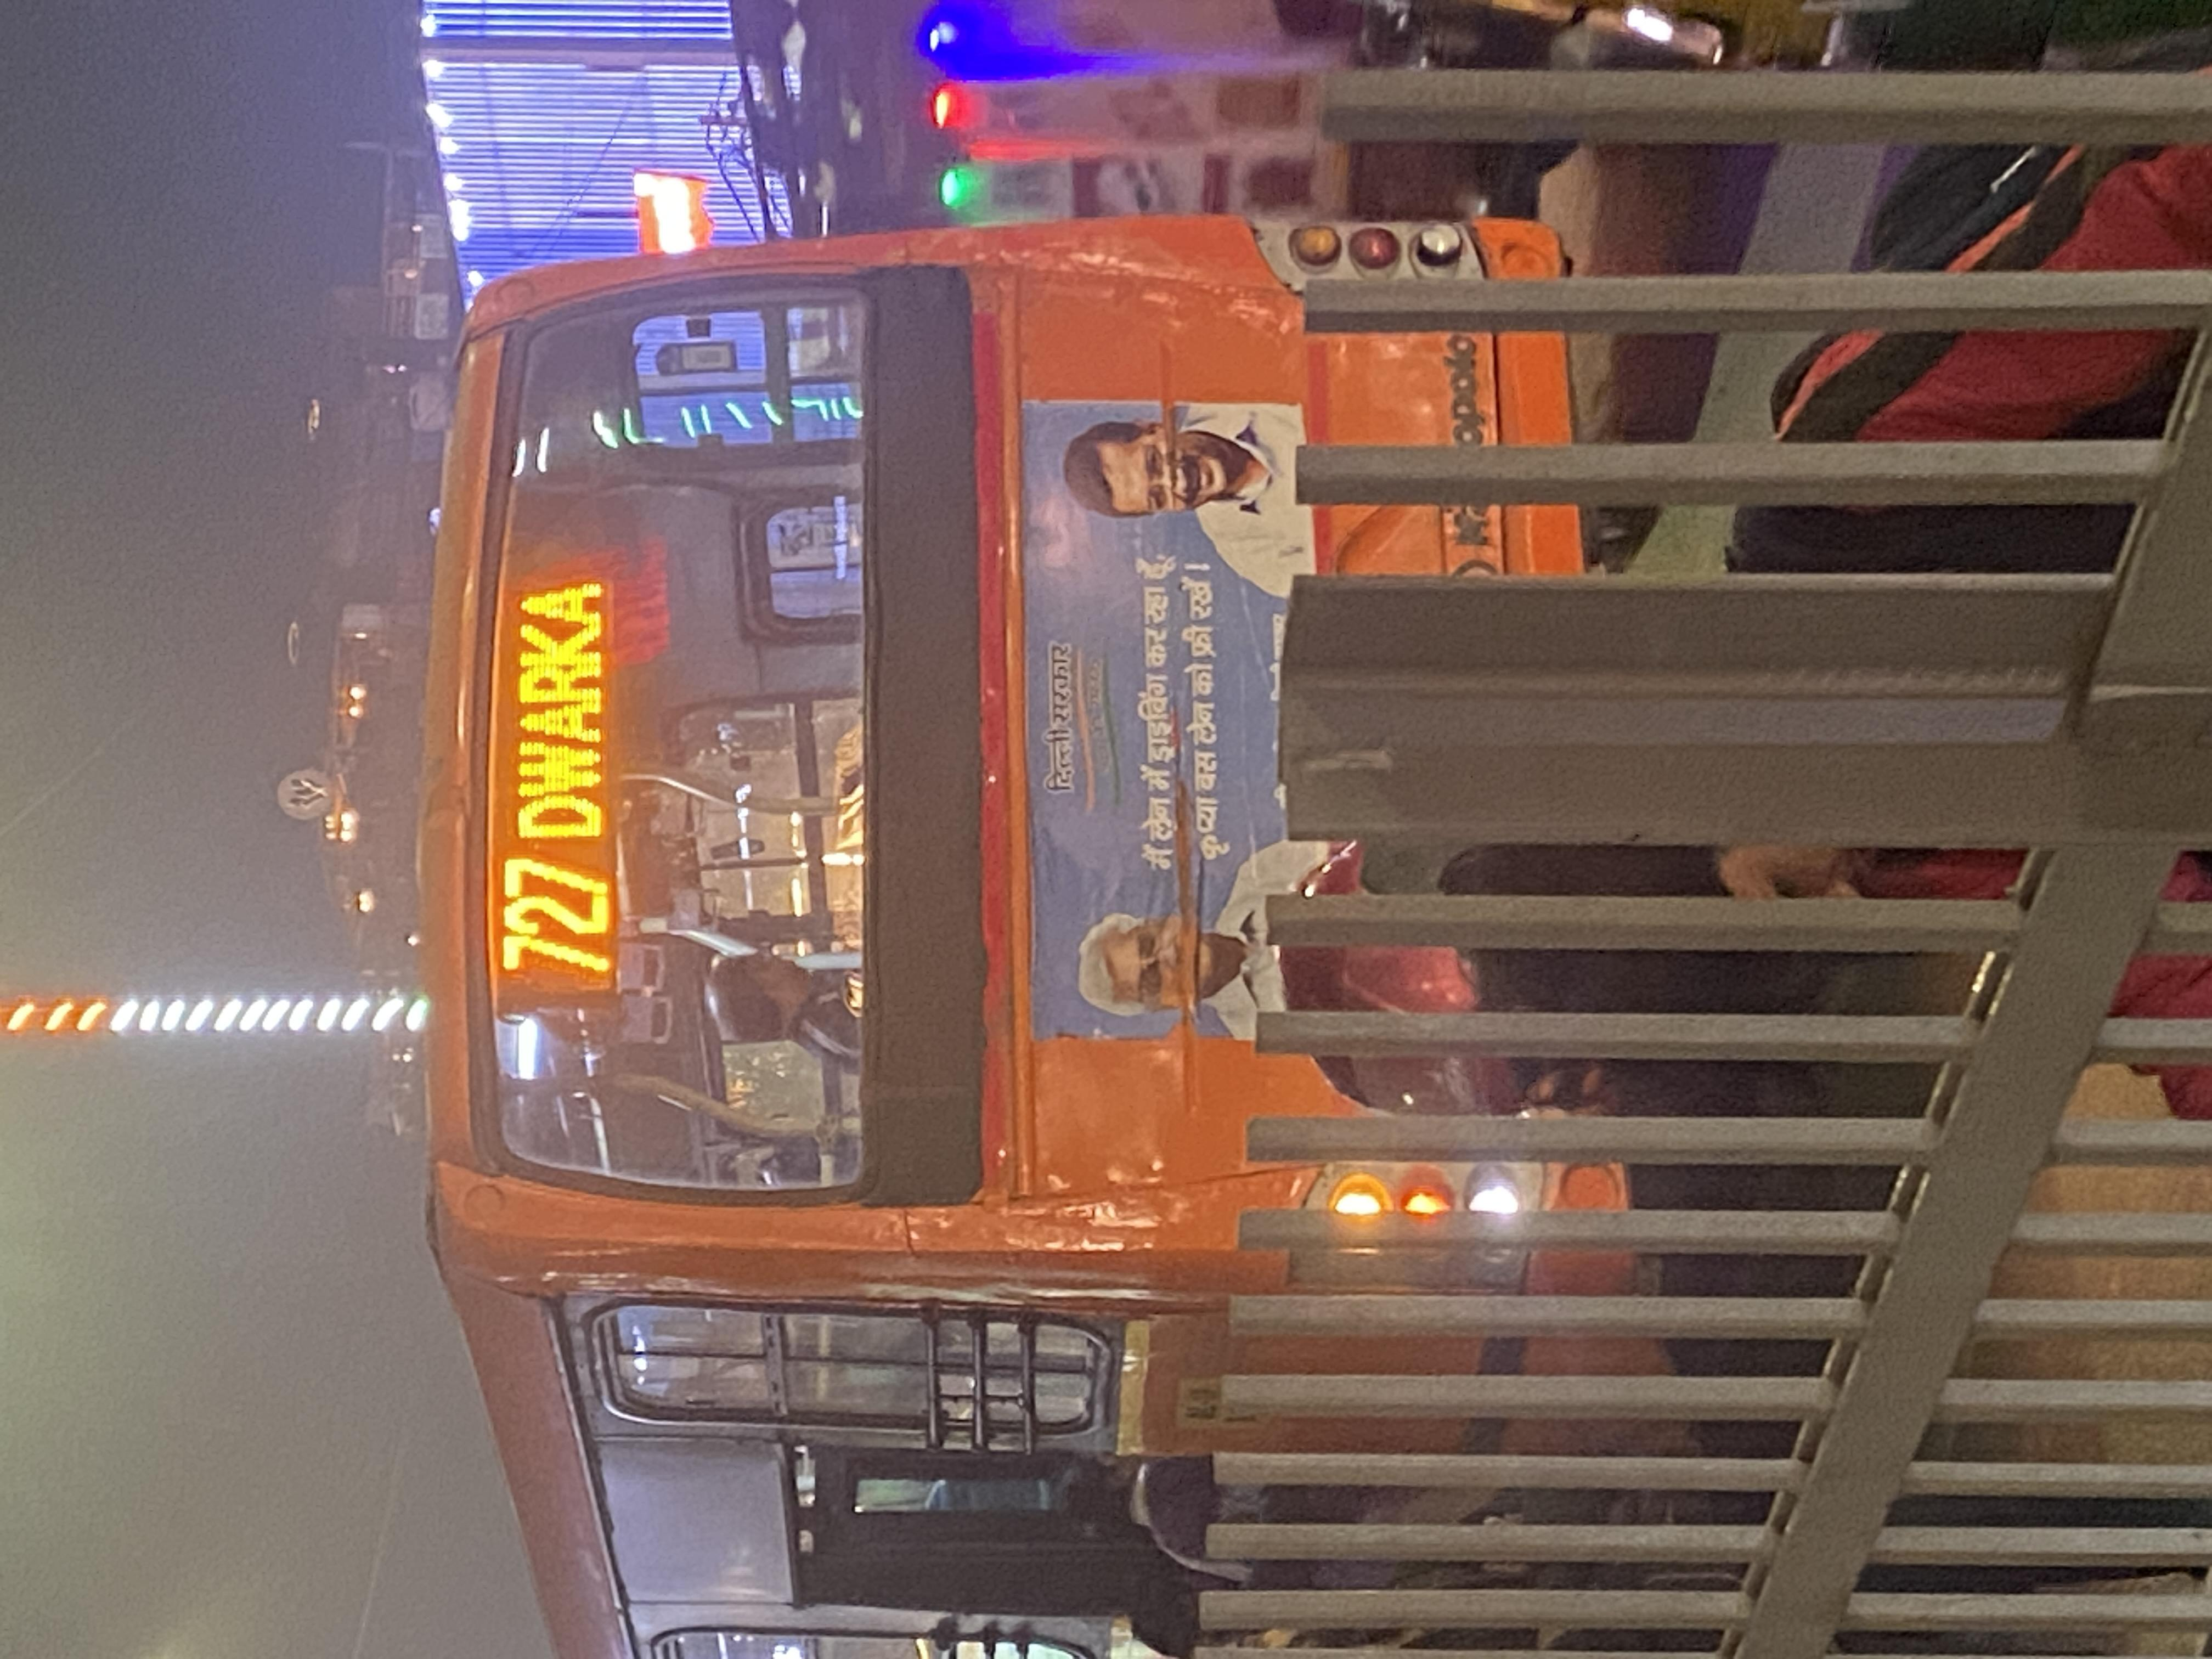Bus: (362, 192, 1738, 1218)
Display Board: (488, 532, 674, 1091)
